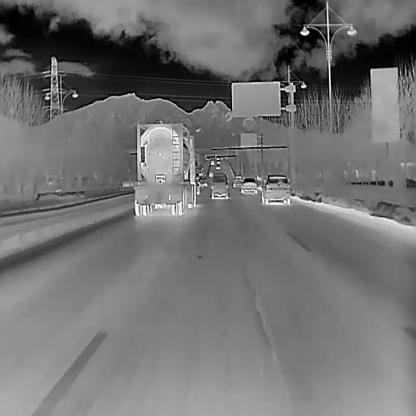car: (260, 173, 290, 204), (210, 171, 228, 199), (240, 177, 257, 193), (232, 174, 243, 187), (198, 177, 207, 187), (197, 167, 202, 175), (208, 159, 214, 165), (208, 171, 214, 176), (215, 164, 219, 168), (216, 158, 220, 162)
truck: (133, 121, 197, 216)
